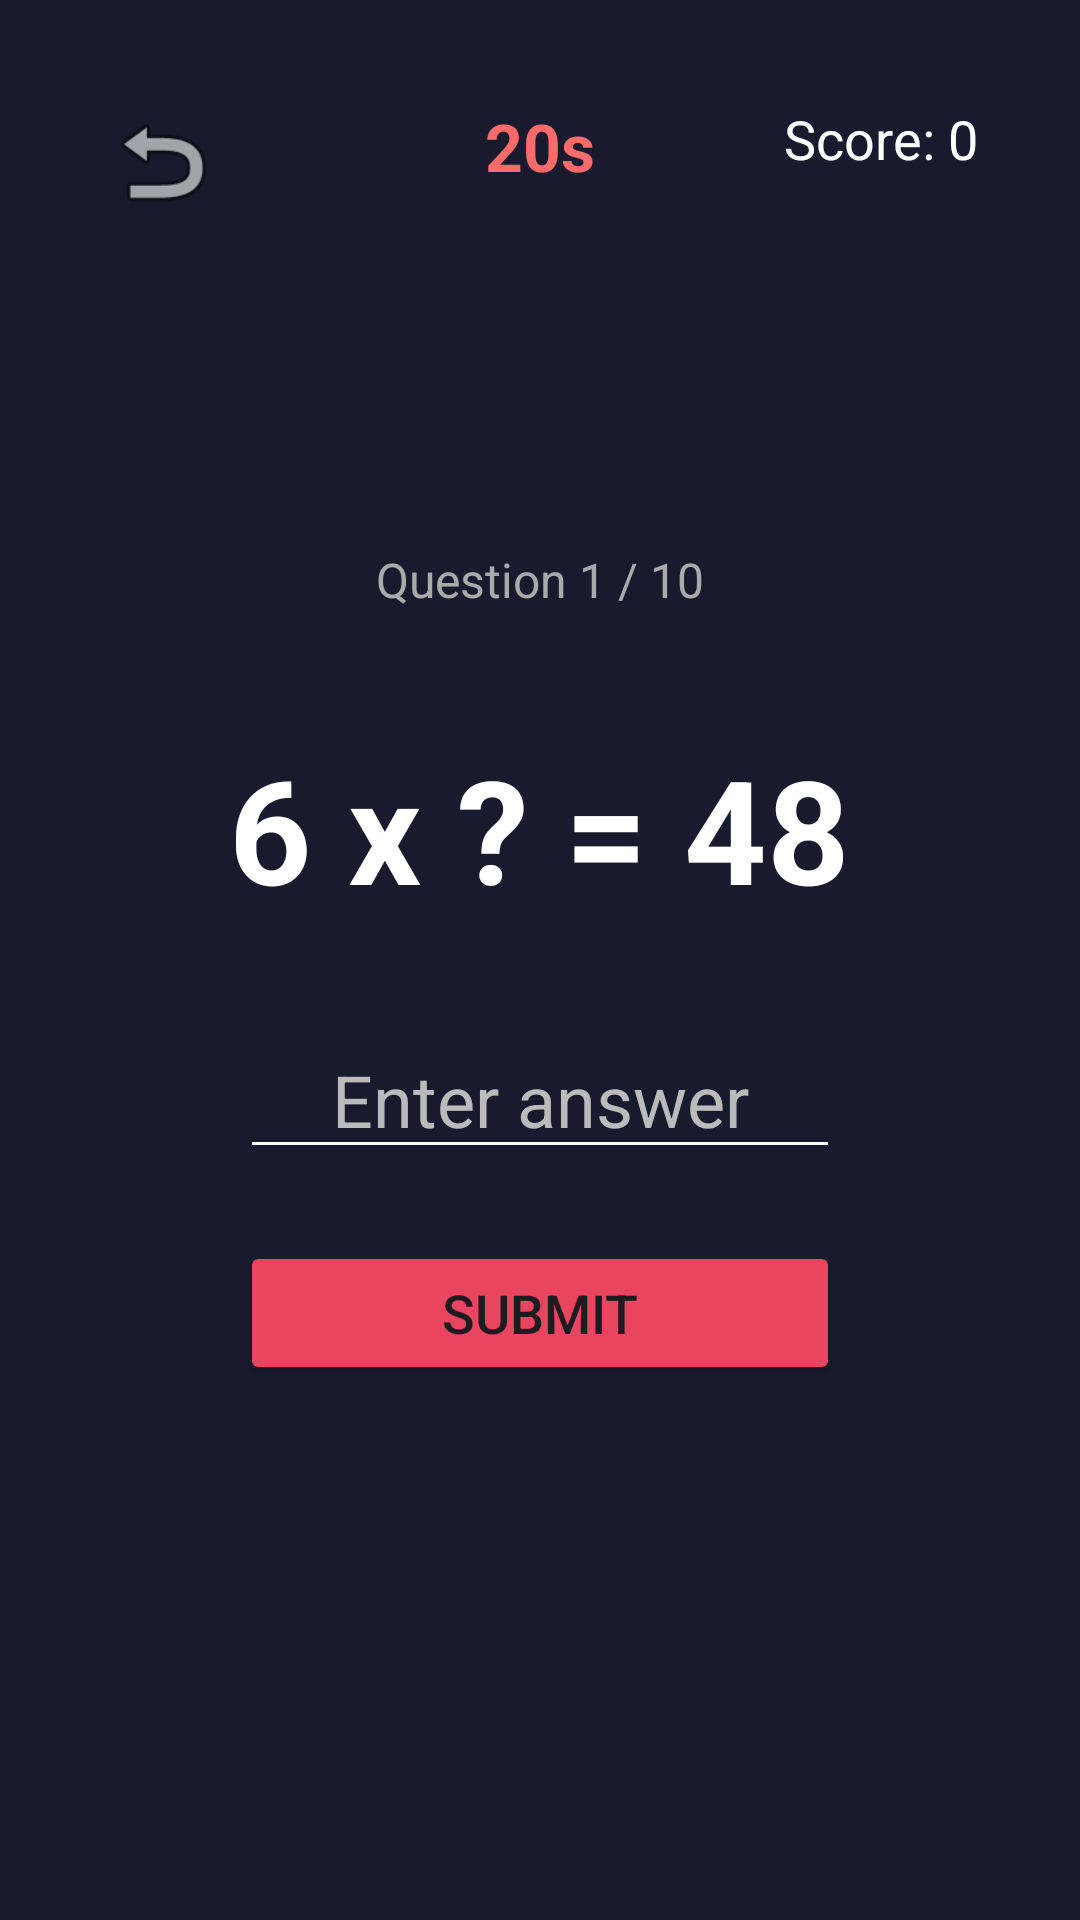

Icon bounding boxes for this 1080w x 1920h phone screenshot, format (x1,y1,x2,y2):
Back: (124,127,203,198)
